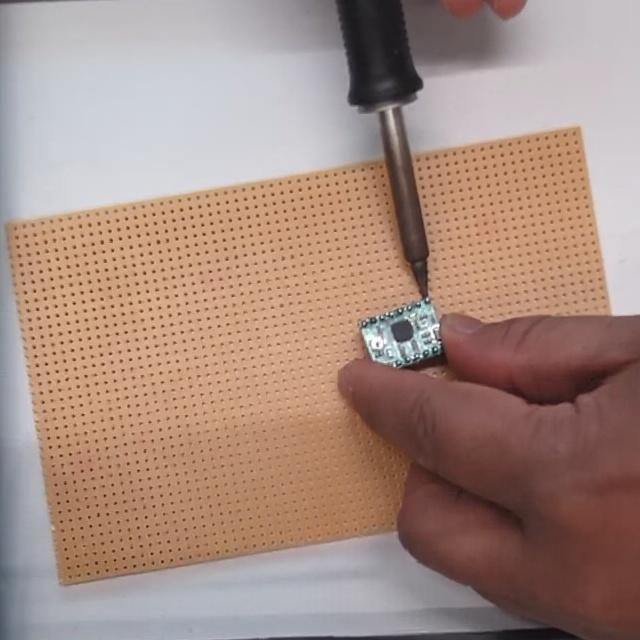Chip: (359, 298, 455, 375)
soldering_iron: (337, 0, 451, 298)
